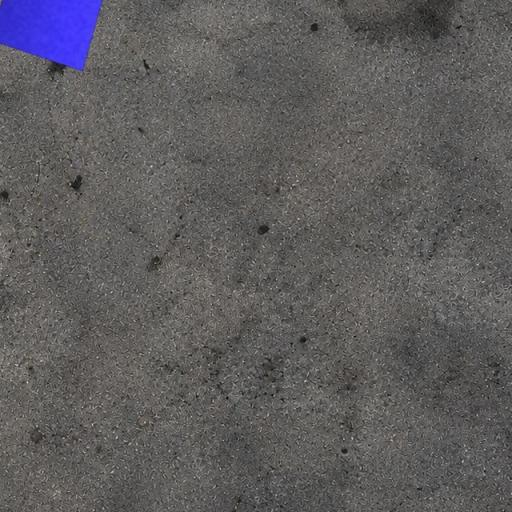BLUE_SQUARE: (0, 0, 110, 72)
